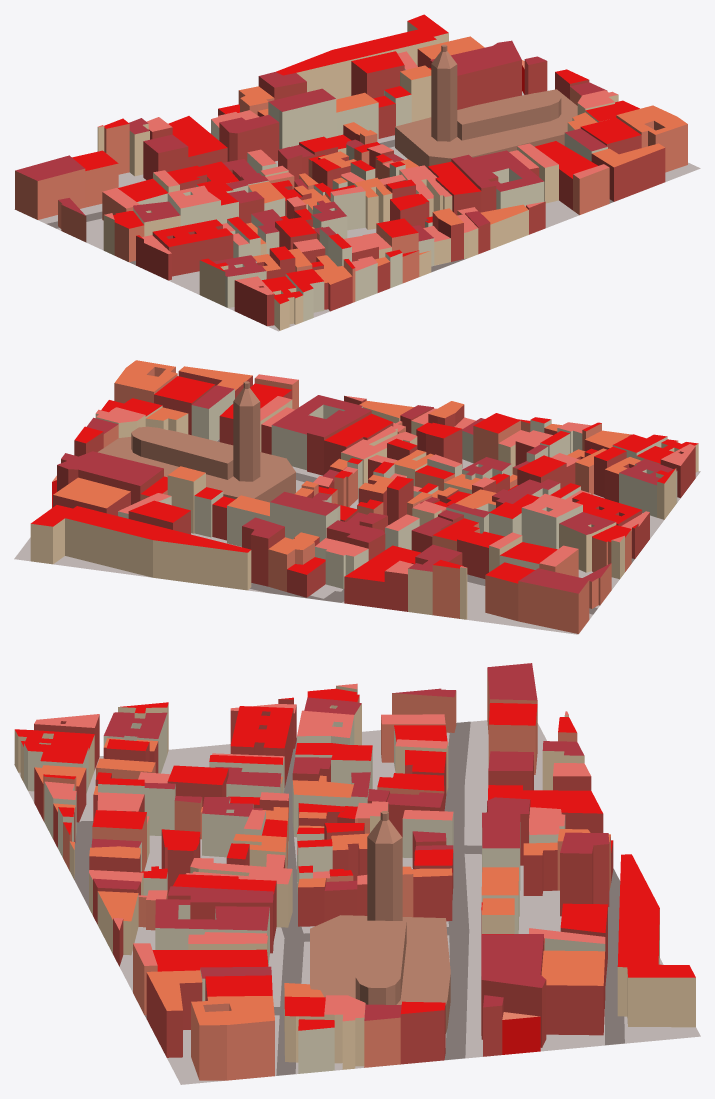
File: SanPabloSurroundings.obj
3 renders of one model, top to bottom at view 1: azimuth 30°, elevation 25°; view 2: azimuth 150°, elevation 25°; view 3: azimuth 270°, elevation 25°, orthographic. The views are drawn at different scales.
Parts seen in each view (by area): view 1: object_310, object_309, object_4, object_307, object_262, object_1, object_245, object_265, object_223, object_261, object_116, object_275 (+66 smaller); view 2: object_261, object_310, object_309, object_4, object_307, object_262, object_1, object_246, object_265, object_126, object_211, object_289 (+85 smaller); view 3: object_4, object_3, object_310, object_229, object_262, object_261, object_309, object_1, object_246, object_259, object_269, object_212 (+85 smaller).
Part boxes in pixels (x1=…): object_310: x1=395, y1=89, x2=577, y2=168; object_309: x1=457, y1=92, x2=561, y2=140; object_4: x1=14, y1=91, x2=700, y2=331; object_307: x1=15, y1=169, x2=85, y2=219; object_262: x1=276, y1=14, x2=448, y2=75; object_1: x1=431, y1=44, x2=457, y2=141; object_245: x1=430, y1=60, x2=521, y2=109; object_265: x1=268, y1=99, x2=336, y2=149; object_223: x1=591, y1=148, x2=665, y2=201; object_261: x1=296, y1=21, x2=448, y2=99; object_116: x1=152, y1=225, x2=233, y2=276; object_275: x1=219, y1=122, x2=279, y2=161; object_261: x1=30, y1=518, x2=251, y2=590; object_310: x1=98, y1=430, x2=295, y2=502; object_309: x1=131, y1=426, x2=233, y2=479; object_4: x1=14, y1=439, x2=700, y2=634; object_307: x1=518, y1=580, x2=589, y2=633; object_262: x1=31, y1=505, x2=250, y2=552; object_1: x1=233, y1=381, x2=260, y2=481; object_246: x1=57, y1=451, x2=163, y2=485; object_265: x1=270, y1=502, x2=340, y2=542; object_126: x1=521, y1=505, x2=582, y2=549; object_211: x1=271, y1=404, x2=362, y2=470; object_289: x1=432, y1=565, x2=463, y2=618; object_4: x1=14, y1=720, x2=700, y2=1084; object_3: x1=74, y1=721, x2=624, y2=1075; object_310: x1=310, y1=915, x2=450, y2=1033; object_229: x1=191, y1=999, x2=274, y2=1080; object_262: x1=617, y1=854, x2=695, y2=977; object_261: x1=617, y1=909, x2=695, y2=1027; object_309: x1=355, y1=920, x2=406, y2=1004; object_1: x1=367, y1=811, x2=402, y2=920; object_246: x1=481, y1=934, x2=545, y2=987; object_259: x1=546, y1=952, x2=605, y2=1035; object_269: x1=560, y1=844, x2=609, y2=916; object_212: x1=155, y1=899, x2=269, y2=930.
Bounding box in the file's own units: 268 × 51.6 × 211.
